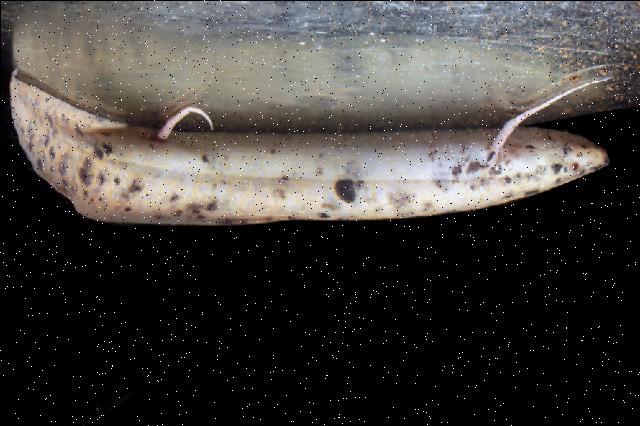Sirip Ekor: (0, 55, 122, 237)
